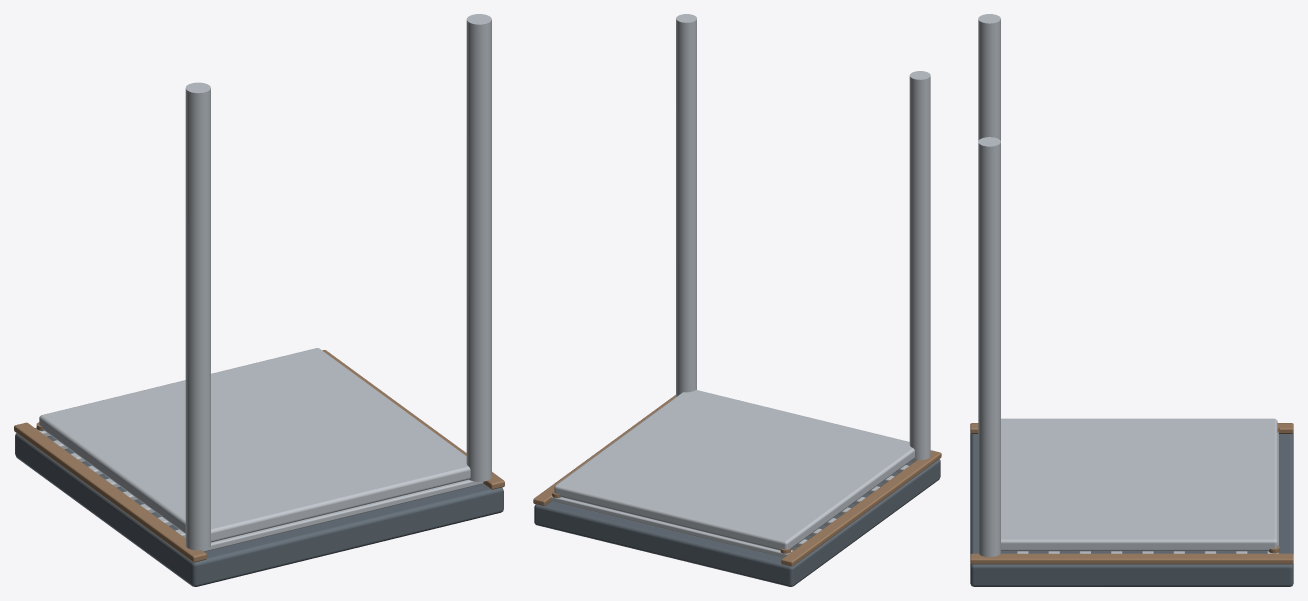
3 views of the same model, side by side, from view 1: azimuth 30°, elevation 25°; view 2: azimuth 150°, elevation 25°; view 3: azimuth 270°, elevation 25° (orthographic). The views are drawn at different scales.
Parts seen in each view (by area): view 1: elevator-platform, lift-deck; view 2: lift-deck, elevator-platform; view 3: lift-deck, elevator-platform.
Part boxes in pixels (x1=…): elevator-platform: x1=14, y1=14, x2=504, y2=586; lift-deck: x1=39, y1=348, x2=470, y2=542; lift-deck: x1=554, y1=390, x2=914, y2=550; elevator-platform: x1=533, y1=14, x2=941, y2=586; lift-deck: x1=1001, y1=418, x2=1277, y2=551; elevator-platform: x1=970, y1=14, x2=1293, y2=586.
Bounding box in the file's own units: 2 × 3 × 2.
